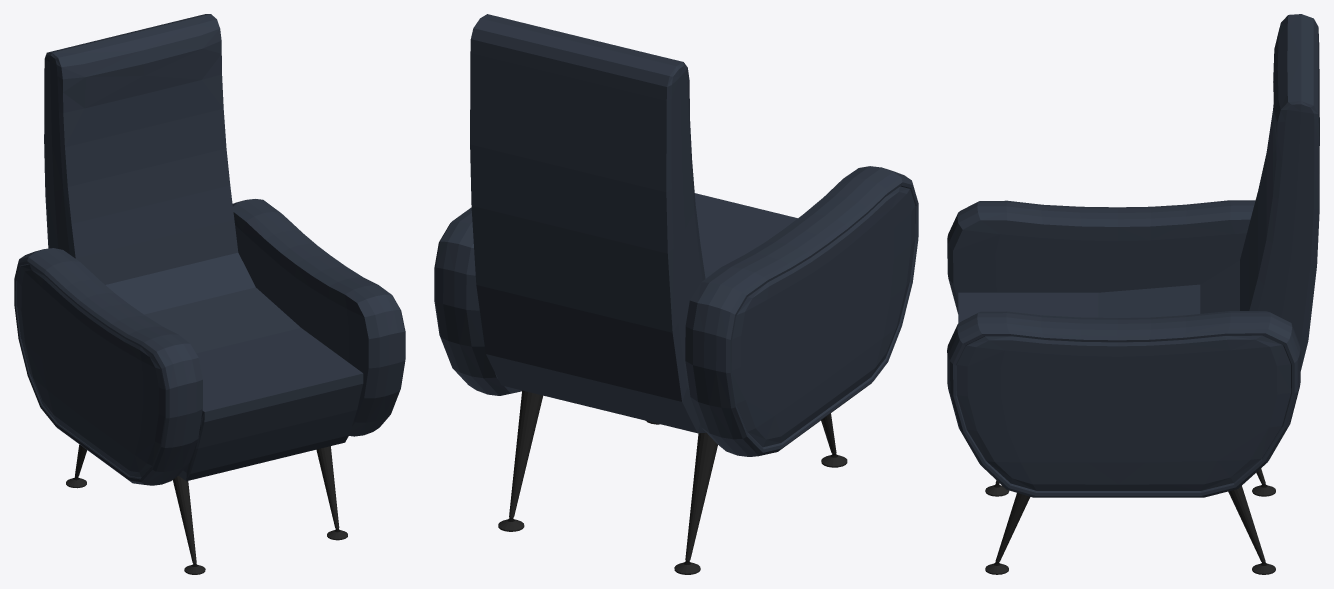
The model's file is armchair3.obj.
3 renders of one model, left to right at view 1: azimuth 30°, elevation 25°; view 2: azimuth 150°, elevation 25°; view 3: azimuth 270°, elevation 25°, orthographic. The views are drawn at different scales.
Parts seen in each view (by area): view 1: sofa_zul_Cube.040_sof, sofa_zul_potas_Tu; view 2: sofa_zul_Cube.040_sof, sofa_zul_potas_Tu; view 3: sofa_zul_Cube.040_sof, sofa_zul_potas_Tu.
Boxes of the visible parts, box(x1,y1,x2,y2) form: sofa_zul_Cube.040_sof: box(14, 14, 405, 485); sofa_zul_potas_Tu: box(66, 444, 347, 574); sofa_zul_Cube.040_sof: box(434, 14, 918, 456); sofa_zul_potas_Tu: box(498, 390, 847, 574); sofa_zul_Cube.040_sof: box(947, 14, 1319, 497); sofa_zul_potas_Tu: box(985, 468, 1275, 574).
Size of the model in its own units: 0.5715 by 0.949 by 0.6771.
